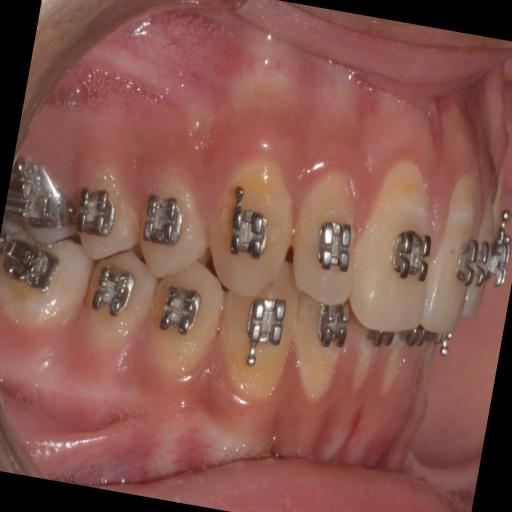correct_brace: (119, 166, 216, 294), (218, 196, 277, 274), (386, 218, 440, 296), (312, 207, 358, 276)
incorrect_brace: (282, 164, 374, 314), (136, 176, 189, 254)
